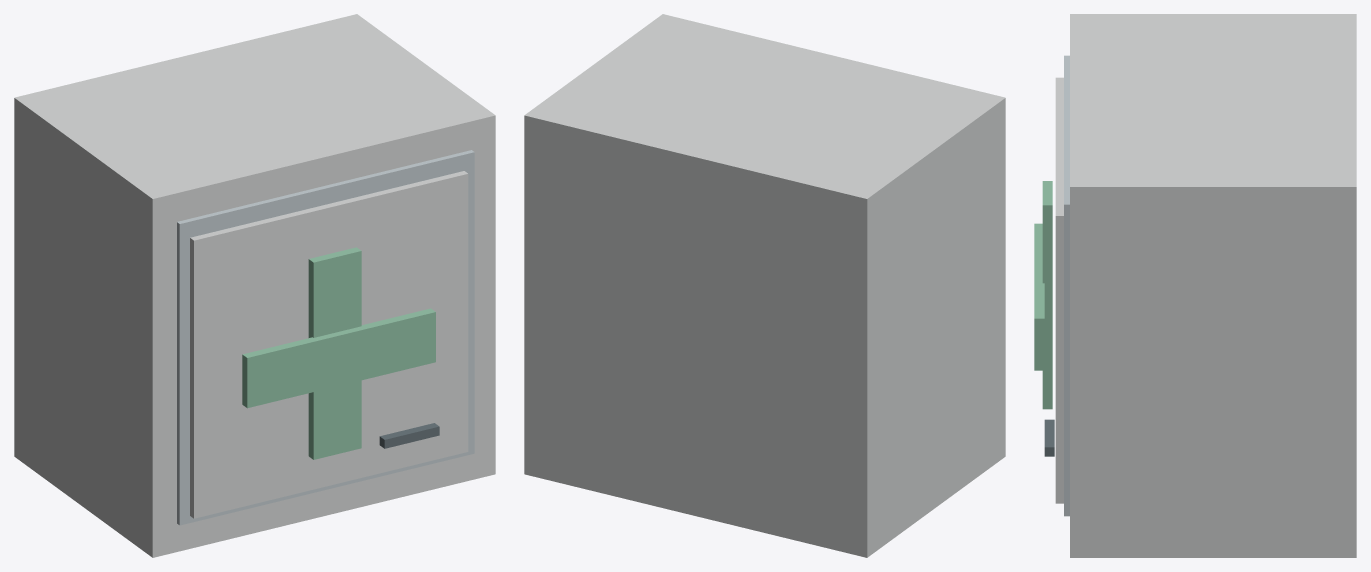
Rendered from defibrillator.glb.
The picture shows the model from 3 angles, left to right: view 1: azimuth 30°, elevation 25°; view 2: azimuth 150°, elevation 25°; view 3: azimuth 270°, elevation 25°; orthographic projection. The views are drawn at different scales.
Bounding box in the file's own units: 1 × 1 × 0.7875.
